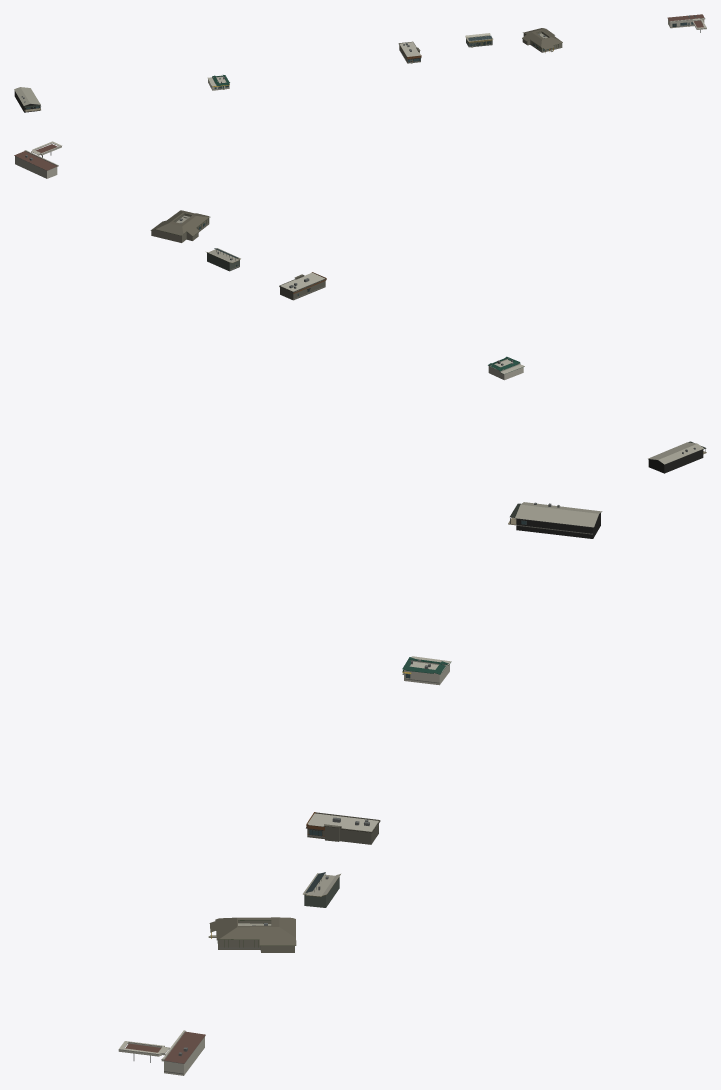
File: site.glb
The picture shows the model from 3 angles, top to bottom: view 1: azimuth 30°, elevation 25°; view 2: azimuth 150°, elevation 25°; view 3: azimuth 270°, elevation 25°; orthographic projection. The views are drawn at different scales.
Visible parts, largest first — view 1: roof-0dc3fa8a, roof-5e02b3d2, roof-4b8868e0, roof-1587e3e1, roof-b1290409, roof-fd64edbd; view 2: roof-0dc3fa8a, roof-5e02b3d2, roof-4b8868e0, roof-1587e3e1, roof-fd64edbd, roof-b1290409; view 3: roof-0dc3fa8a, roof-5e02b3d2, roof-4b8868e0, roof-1587e3e1, roof-fd64edbd, roof-b1290409.
Boxes of the visible parts, x1,y1,x2,y2 form: roof-0dc3fa8a: (522,28,562,52); roof-5e02b3d2: (14,87,40,112); roof-4b8868e0: (667,14,706,32); roof-1587e3e1: (398,41,421,63); roof-b1290409: (465,33,493,47); roof-fd64edbd: (207,75,229,90); roof-0dc3fa8a: (150,210,210,242); roof-5e02b3d2: (648,441,706,473); roof-4b8868e0: (14,141,61,178); roof-1587e3e1: (279,272,326,300); roof-fd64edbd: (488,356,524,380); roof-b1290409: (206,248,240,271); roof-0dc3fa8a: (209,917,296,952); roof-5e02b3d2: (508,502,602,538); roof-4b8868e0: (118,1030,205,1075); roof-1587e3e1: (306,812,380,844); roof-fd64edbd: (402,656,451,685); roof-b1290409: (303,872,340,907).
Size of the model in its own units: 527 by 14.68 by 186.
